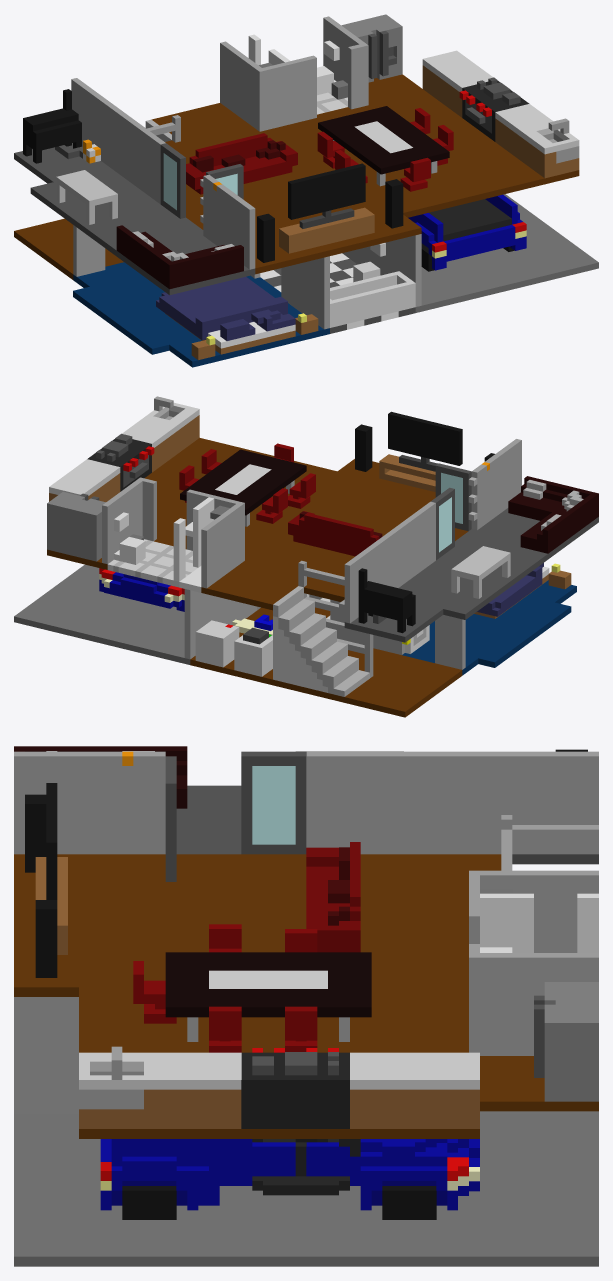
The model's file is LO_inside.glb.
3 renders of one model, top to bottom at view 1: azimuth 30°, elevation 25°; view 2: azimuth 150°, elevation 25°; view 3: azimuth 270°, elevation 25°, orthographic. The views are drawn at different scales.
Parts seen in each view (by area): view 1: Untitled; view 2: Untitled; view 3: Untitled.
Boxes of the visible parts, x1,y1,x2,y2 form: Untitled: (14,14,598,367); Untitled: (14,396,598,717); Untitled: (14,746,598,1266).
Bounding box in the file's own units: 7.5 × 2.5 × 5.4.
Materials: 1 (1 with a texture image).
